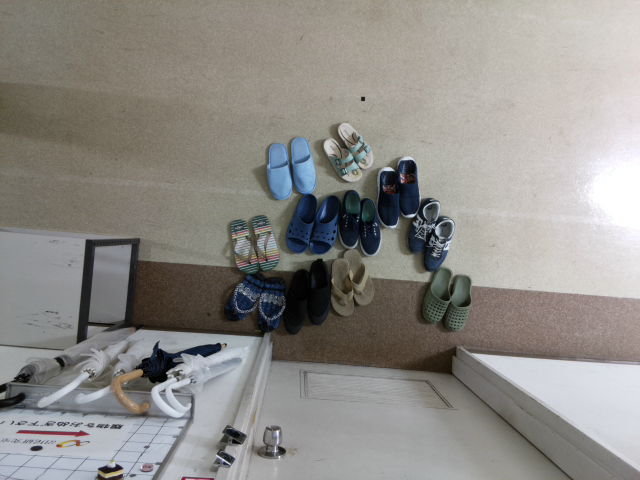Copy of Copy of Copy of Copy of Copy of Copy of Copy of sandal: (337, 122, 373, 168)
Copy of Copy of Copy of Copy of Copy of Copy of sandal: (322, 138, 362, 183)
Copy of Copy of Copy of Copy of Copy of Copy of shoes: (284, 268, 309, 335)
Copy of Copy of Copy of Copy of Copy of sandal: (331, 257, 354, 316)
Copy of Copy of Copy of Copy of Copy of shoes: (309, 257, 331, 325)
Copy of Copy of Copy of Copy of Copy of slipper: (442, 274, 472, 332)
Copy of Copy of Copy of Copy of sandal: (343, 248, 374, 305)
Copy of Copy of Copy of Copy of shoes: (420, 213, 453, 269), (338, 189, 361, 249)
Copy of Copy of Copy of Copy of slipper: (421, 265, 453, 323)
Copy of Copy of Copy of sandal: (255, 276, 286, 332)
Copy of Copy of Copy of shoes: (359, 197, 382, 256)
Copy of Copy of Copy of slipper: (309, 195, 340, 253)
Copy of Copy of sandal: (224, 273, 265, 321)
Copy of Copy of shoes: (405, 197, 441, 253)
Copy of Copy of slipper: (285, 193, 318, 253)
Copy of sandal: (250, 214, 279, 272)
Copy of shoes: (375, 167, 400, 228)
Copy of slipper: (289, 136, 317, 194)
sandal: (228, 219, 259, 274)
shoes: (395, 156, 420, 218)
slipper: (266, 141, 292, 200)
